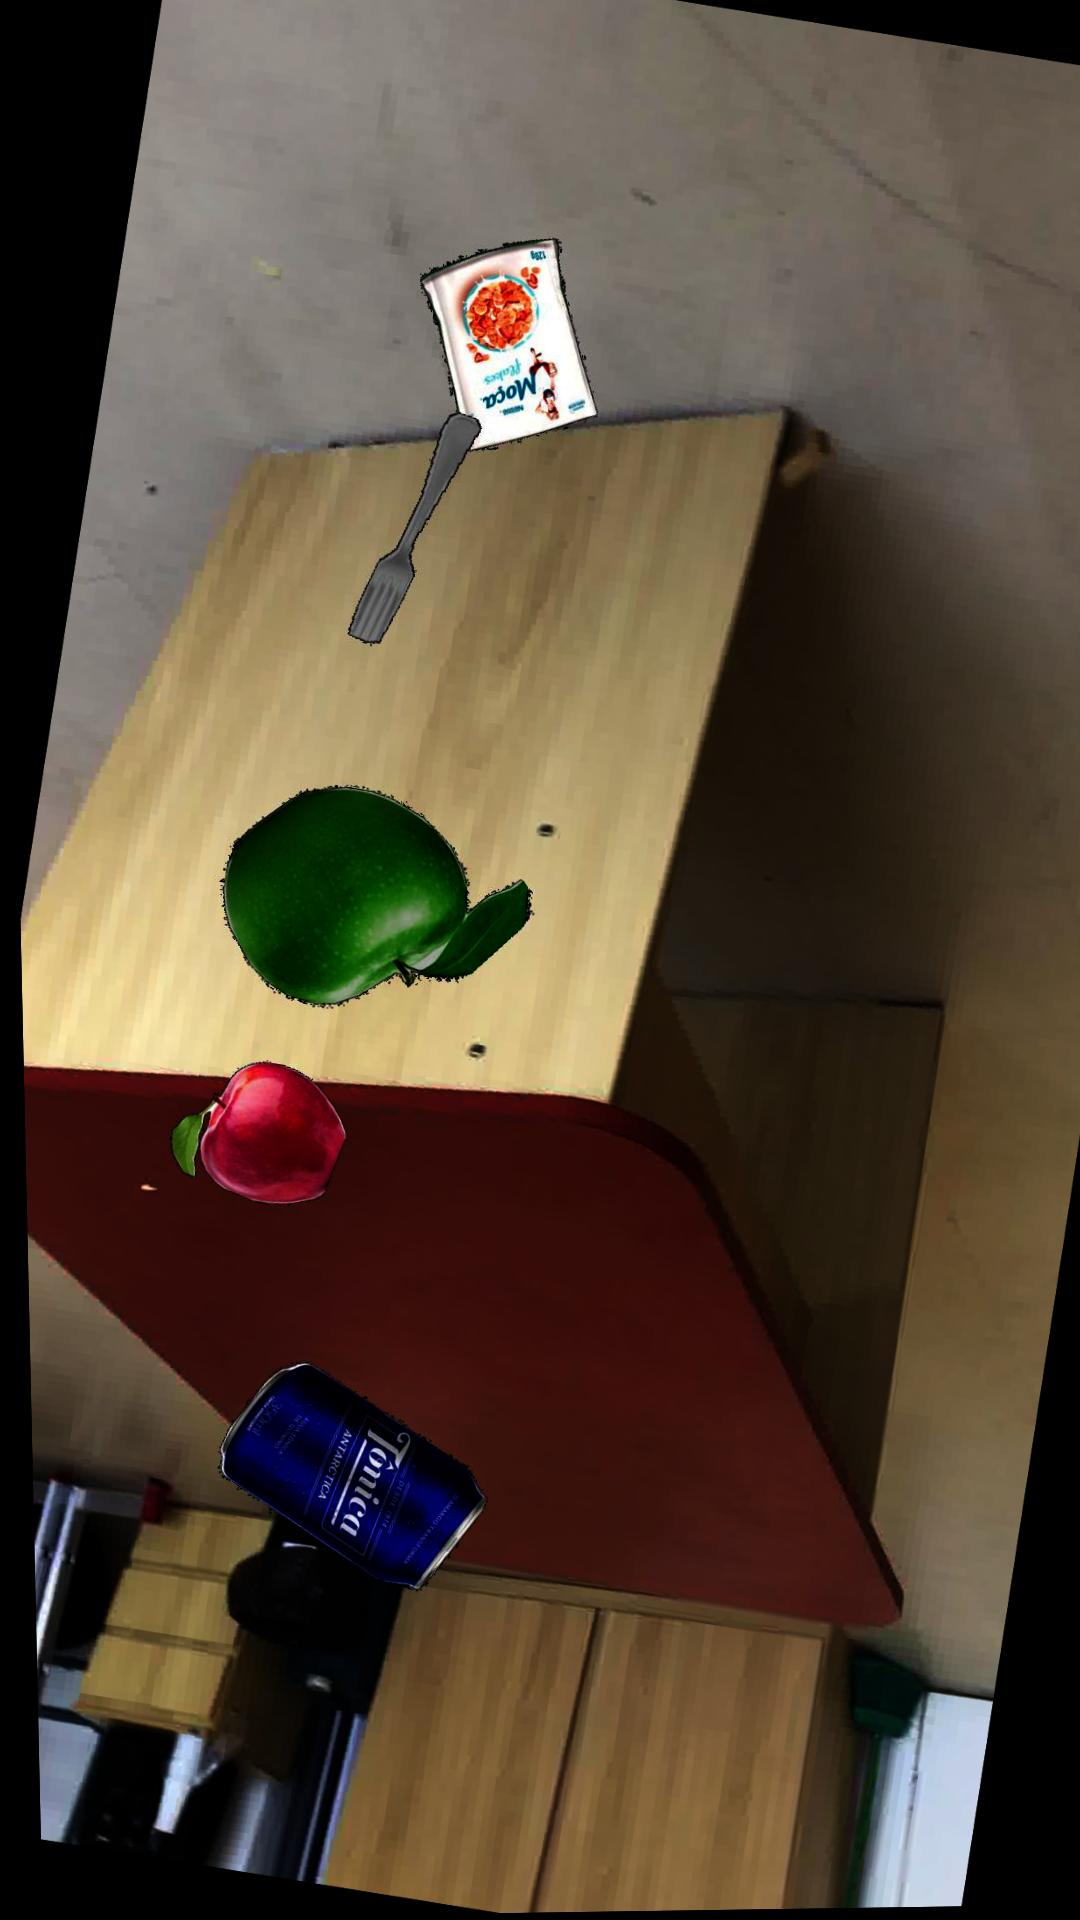apple: (162, 1063, 339, 1208)
corn flakes: (417, 241, 593, 452)
fork: (343, 414, 477, 645)
green apple: (212, 786, 525, 1007)
tonic: (211, 1364, 477, 1593)
